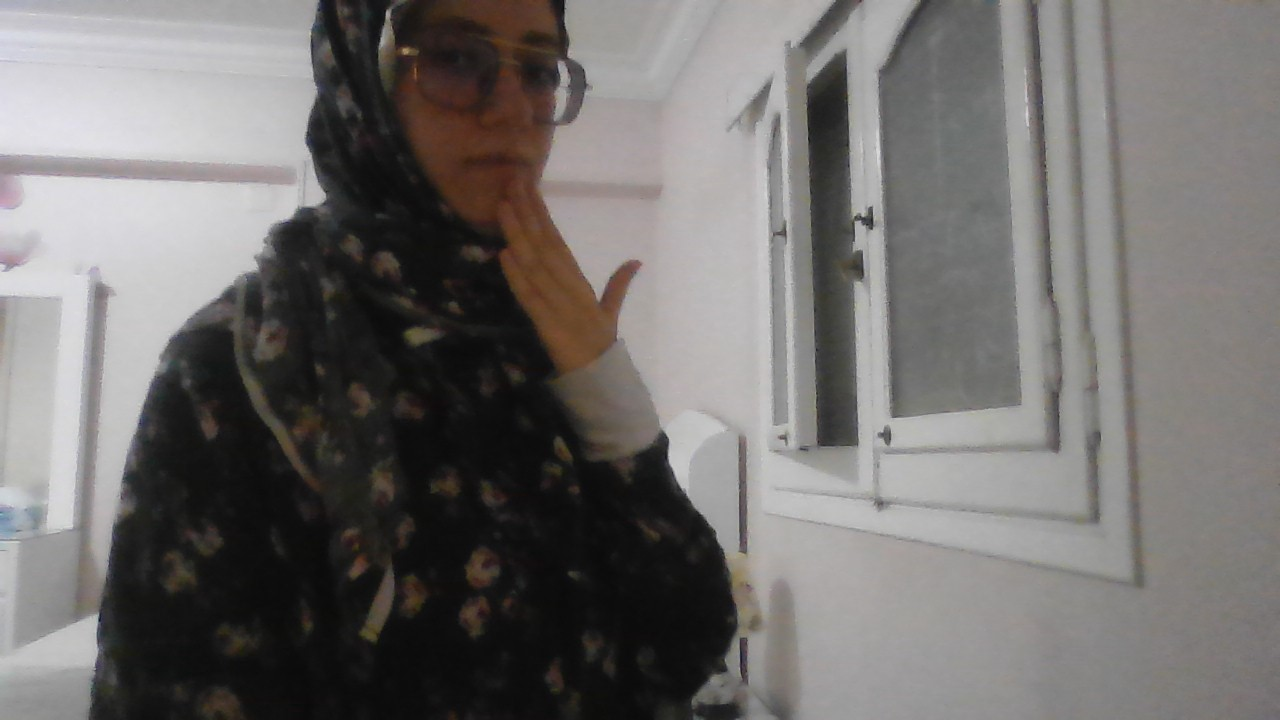thankyou: (482, 171, 642, 378)
